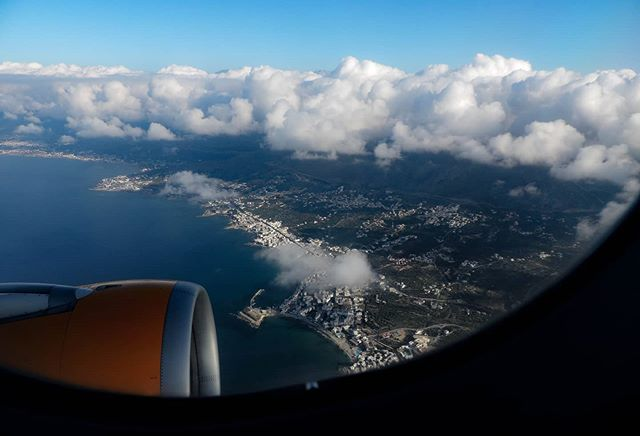sea: (1, 163, 336, 381)
sky: (19, 1, 640, 104)
